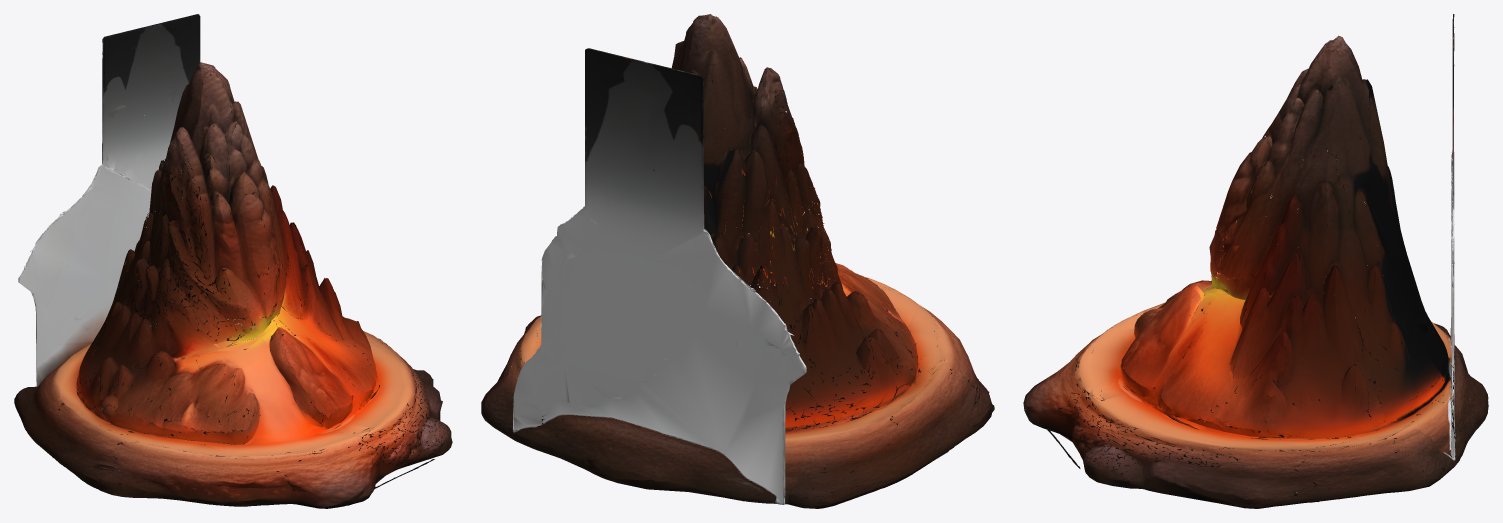
File: hunyuan-volcano-active.glb
3 views of the same model, side by side, from view 1: azimuth 30°, elevation 25°; view 2: azimuth 150°, elevation 25°; view 3: azimuth 270°, elevation 25° (orthographic). The views are drawn at different scales.
Parts seen in each view (by area): view 1: node_0; view 2: node_0; view 3: node_0.
Boxes of the visible parts, bbox=[...] form: node_0: bbox=[14, 14, 452, 508]; node_0: bbox=[481, 14, 994, 508]; node_0: bbox=[1023, 14, 1488, 508].
Size of the model in its own units: 0.8183 by 0.7436 by 0.8379.
Materials: 1 (1 with a texture image).
